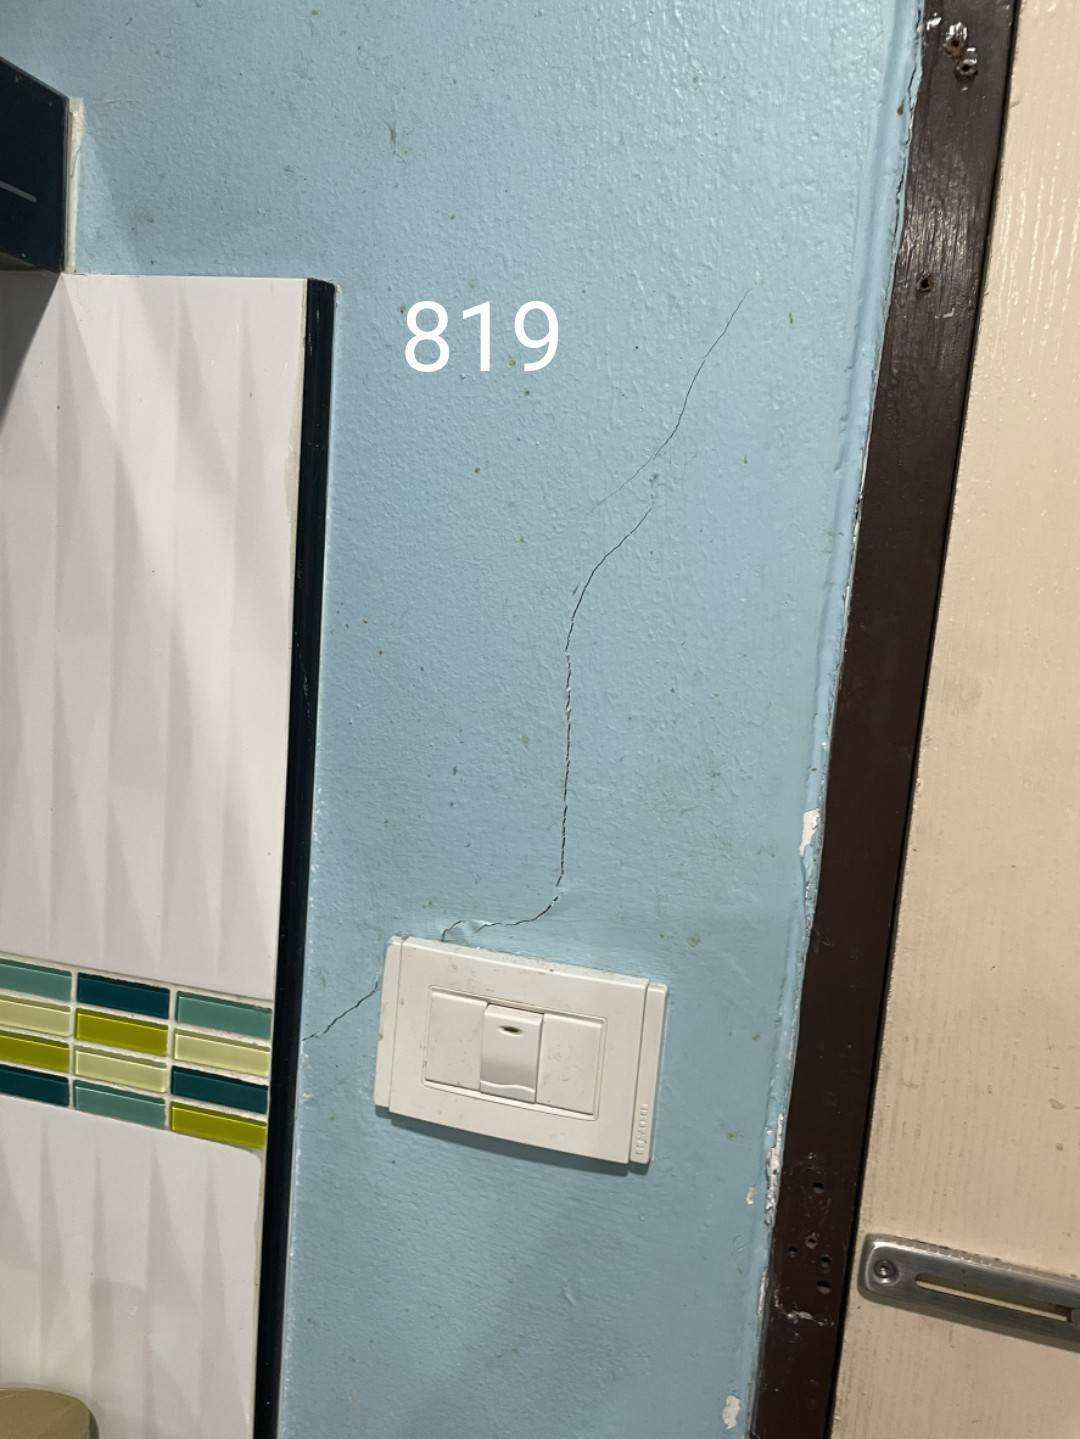Low: (458, 390, 727, 943)
